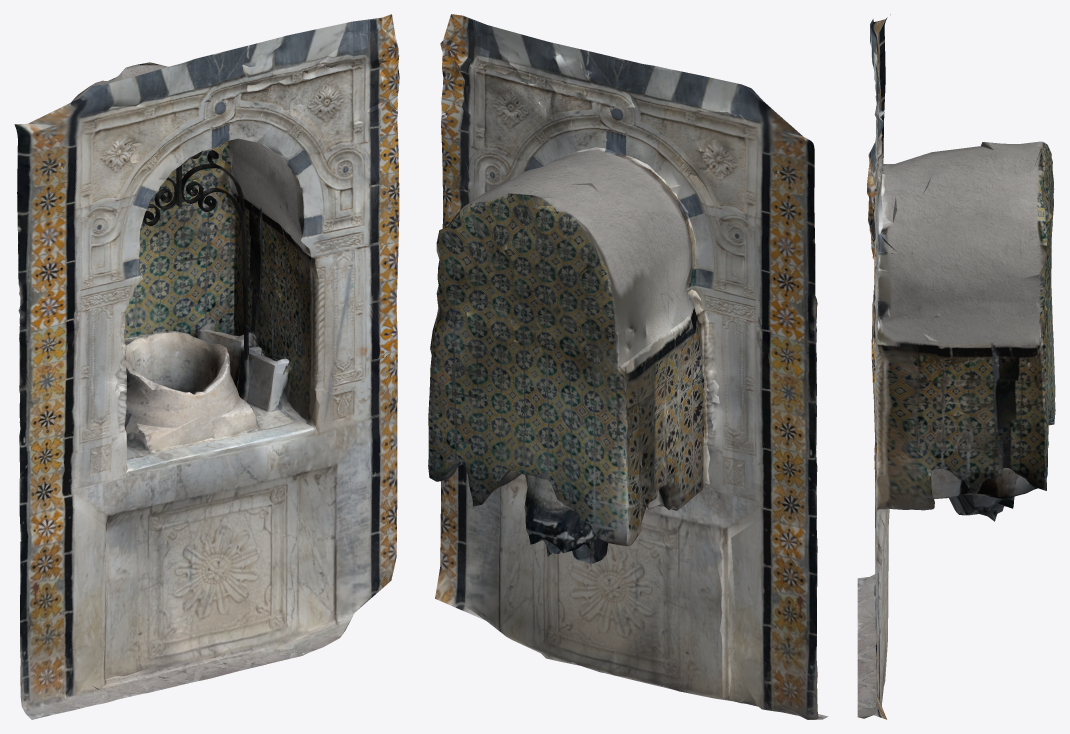
File: birtraditionalwell.glb
3 renders of one model, left to right at view 1: azimuth 30°, elevation 25°; view 2: azimuth 150°, elevation 25°; view 3: azimuth 270°, elevation 25°, orthographic. The views are drawn at different scales.
Parts seen in each view (by area): view 1: Object_3; view 2: Object_3; view 3: Object_3.
Part boxes in pixels (x1,y1,x2,y2): Object_3: (14,14,399,719); Object_3: (428,14,828,719); Object_3: (857,14,1055,719).
Bounding box in the file's own units: 1.29 × 2.01 × 0.6063.
Materials: 1 (1 with a texture image).
